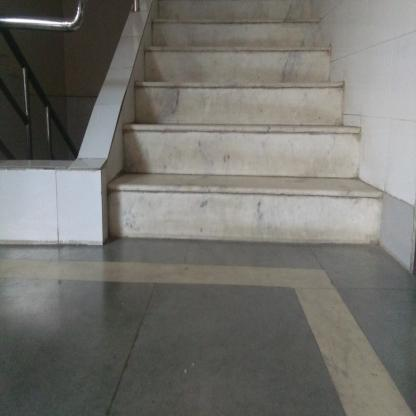stairs: (137, 29, 322, 253)
